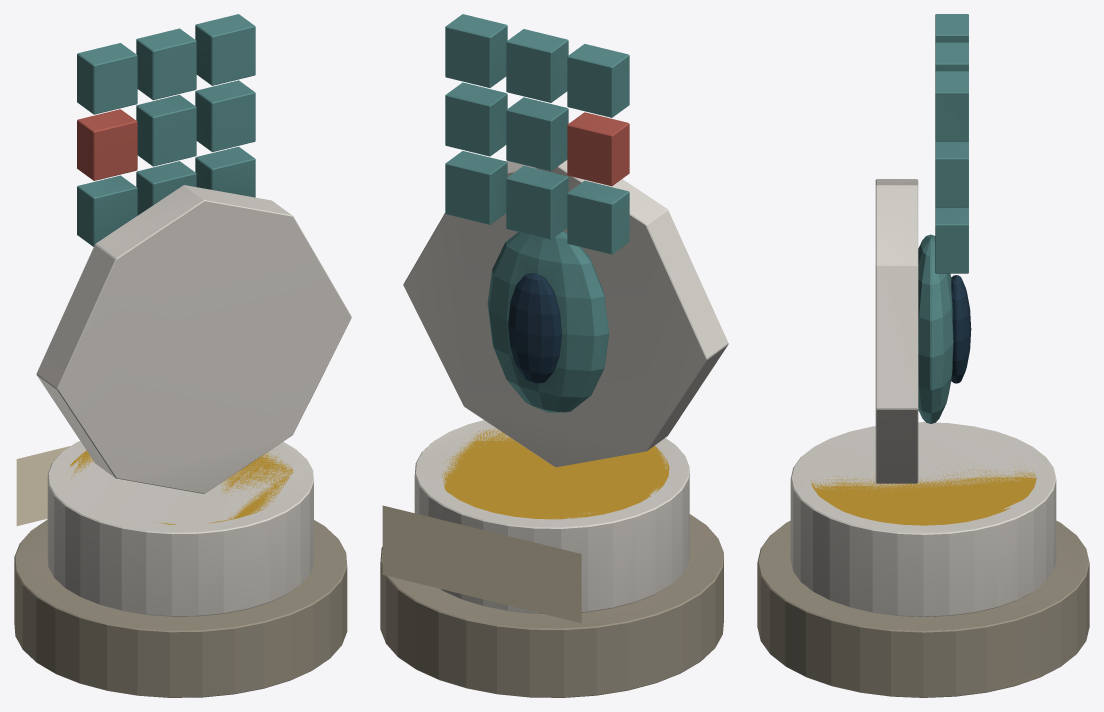
The model's file is trophy_color.glb.
3 renders of one model, left to right at view 1: azimuth 30°, elevation 25°; view 2: azimuth 150°, elevation 25°; view 3: azimuth 270°, elevation 25°, orthographic. The views are drawn at different scales.
Visible parts, largest first — view 1: symbol, common_pedestal, trophy_plate; view 2: symbol, common_pedestal, trophy_plate; view 3: common_pedestal, symbol.
Part boxes in pixels (x1=…): symbol: x1=36, y1=14, x2=351, y2=493; common_pedestal: x1=14, y1=441, x2=347, y2=697; trophy_plate: x1=16, y1=446, x2=70, y2=525; symbol: x1=403, y1=14, x2=728, y2=467; common_pedestal: x1=380, y1=420, x2=723, y2=697; trophy_plate: x1=382, y1=505, x2=581, y2=623; common_pedestal: x1=757, y1=422, x2=1089, y2=697; symbol: x1=875, y1=14, x2=971, y2=483.
Size of the model in its own units: 0.9176 by 1.72 by 0.9.
